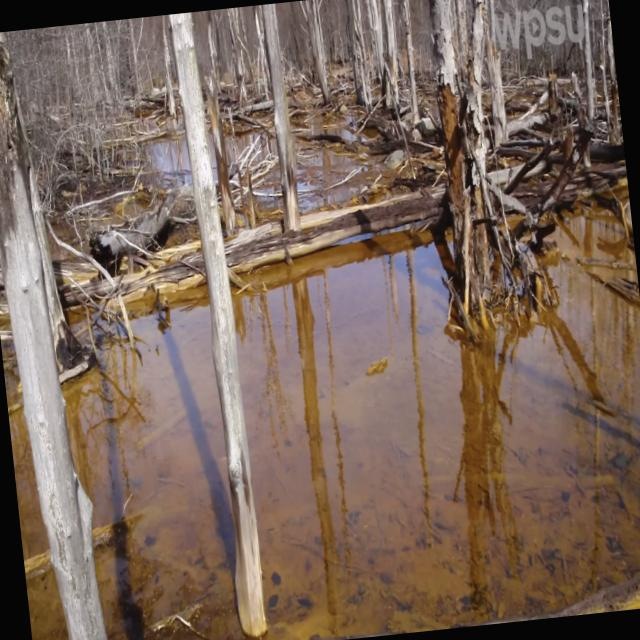yellow_boy: (233, 232, 640, 640), (63, 288, 249, 640), (6, 377, 68, 640)
